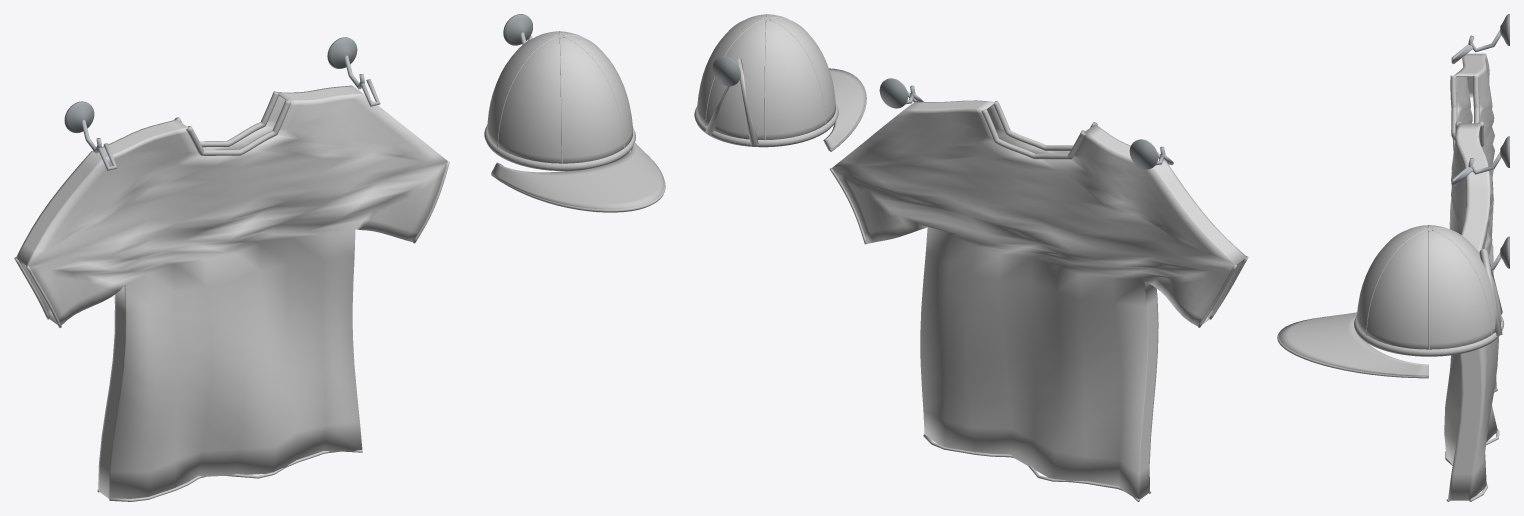
Rendered from counter-apparel.glb.
The picture shows the model from 3 angles, left to right: view 1: azimuth 30°, elevation 25°; view 2: azimuth 150°, elevation 25°; view 3: azimuth 270°, elevation 25°; orthographic projection. The views are drawn at different scales.
Parts seen in each view (by area): view 1: ShirtCotton, CapTwill, RibAndStitch, SuctionRubber, SatinNickel; view 2: ShirtCotton, CapTwill, RibAndStitch, SuctionRubber; view 3: CapTwill, ShirtCotton, RibAndStitch, SatinNickel, SuctionRubber.
Boxes of the visible parts, x1=… form: ShirtCotton: x1=16, y1=85, x2=447, y2=498; CapTwill: x1=487, y1=31, x2=632, y2=163; RibAndStitch: x1=14, y1=91, x2=665, y2=501; SuctionRubber: x1=64, y1=14, x2=532, y2=133; SatinNickel: x1=82, y1=32, x2=526, y2=170; ShirtCotton: x1=831, y1=100, x2=1246, y2=499; CapTwill: x1=697, y1=14, x2=835, y2=145; RibAndStitch: x1=694, y1=68, x2=1248, y2=501; SuctionRubber: x1=712, y1=56, x2=1157, y2=169; CapTwill: x1=1356, y1=225, x2=1502, y2=349; ShirtCotton: x1=1444, y1=53, x2=1498, y2=500; RibAndStitch: x1=1277, y1=75, x2=1503, y2=501; SatinNickel: x1=1451, y1=29, x2=1501, y2=270; SuctionRubber: x1=1500, y1=14, x2=1509, y2=268.
Bounding box in the file's own units: 3.45 × 2.17 × 1.24.
Materials: 5 (3 with a texture image).
